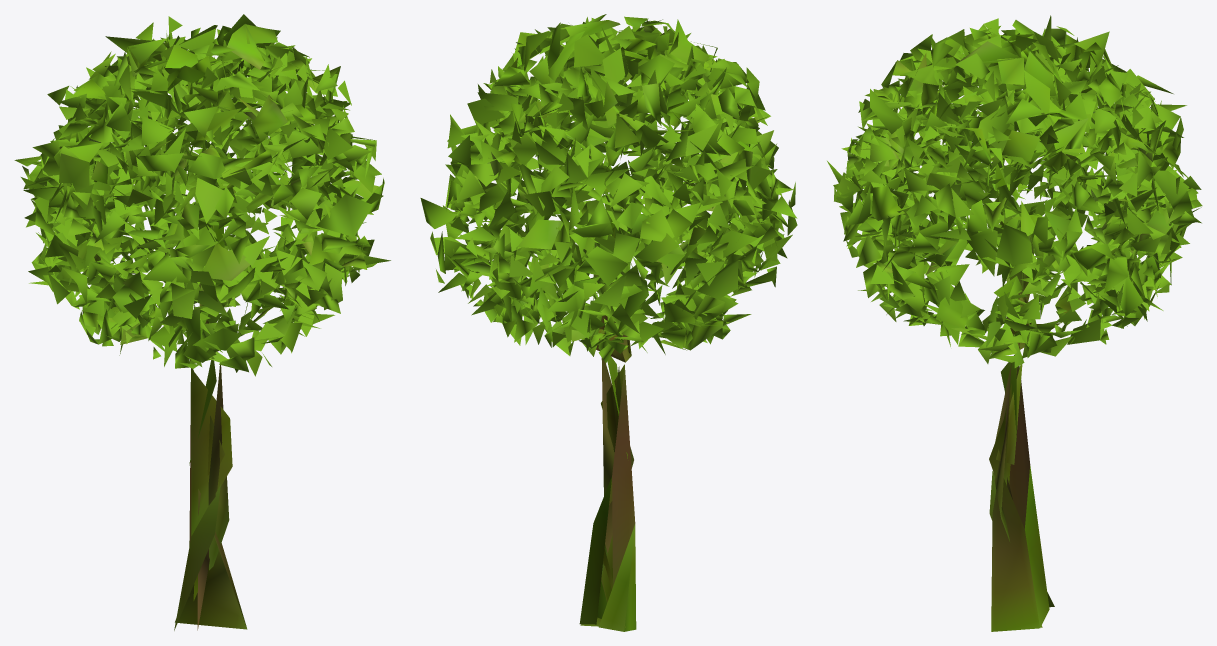
File: getkong-baum4-lo.glb
The picture shows the model from 3 angles, left to right: view 1: azimuth 30°, elevation 25°; view 2: azimuth 150°, elevation 25°; view 3: azimuth 270°, elevation 25°; orthographic projection.
Visible parts, largest first — view 1: output_unwrapped; view 2: output_unwrapped; view 3: output_unwrapped.
Boxes of the visible parts, left/top/right/bottom form: output_unwrapped: left=14, top=14, right=390, bottom=630; output_unwrapped: left=420, top=14, right=797, bottom=631; output_unwrapped: left=827, top=15, right=1202, bottom=631.
Size of the model in its own units: 1.08 by 1.91 by 1.1.
Materials: 1 (1 with a texture image).
